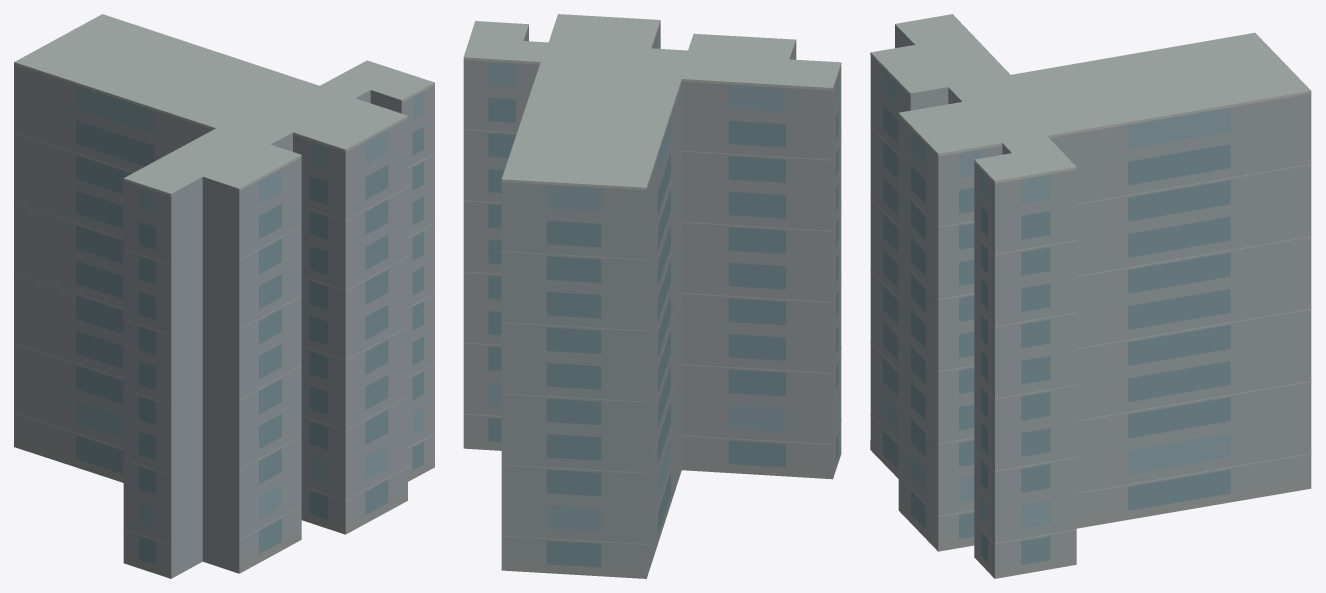
File: survey-upis-33018866.glb
3 renders of one model, left to right at view 1: azimuth 30°, elevation 25°; view 2: azimuth 150°, elevation 25°; view 3: azimuth 270°, elevation 25°, orthographic. The views are drawn at different scales.
Visible parts, largest first — view 1: survey-upis-33018866.tmp; view 2: survey-upis-33018866.tmp; view 3: survey-upis-33018866.tmp.
Part boxes in pixels (box(x1,y1,x2,y2)): survey-upis-33018866.tmp: box(14, 14, 434, 578); survey-upis-33018866.tmp: box(463, 14, 841, 578); survey-upis-33018866.tmp: box(870, 14, 1311, 578).
Size of the model in its own units: 33.2 by 36.79 by 36.99.
